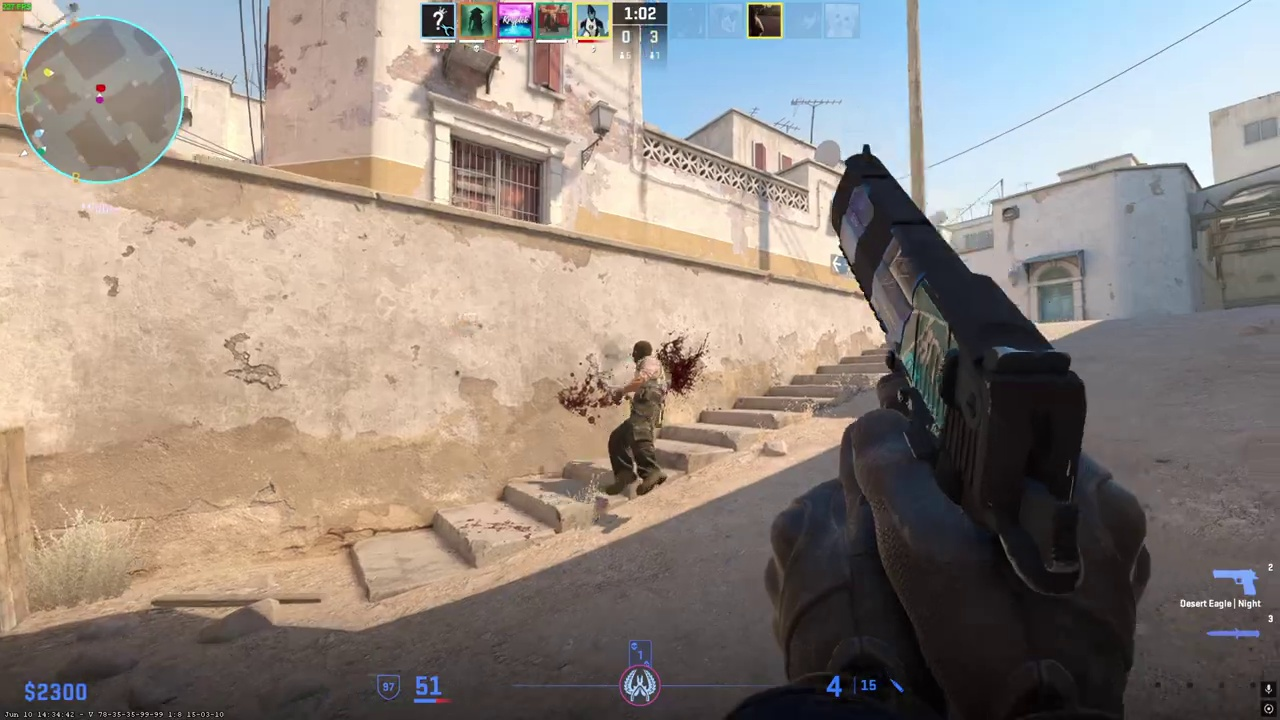CT: (605, 340, 668, 496)
